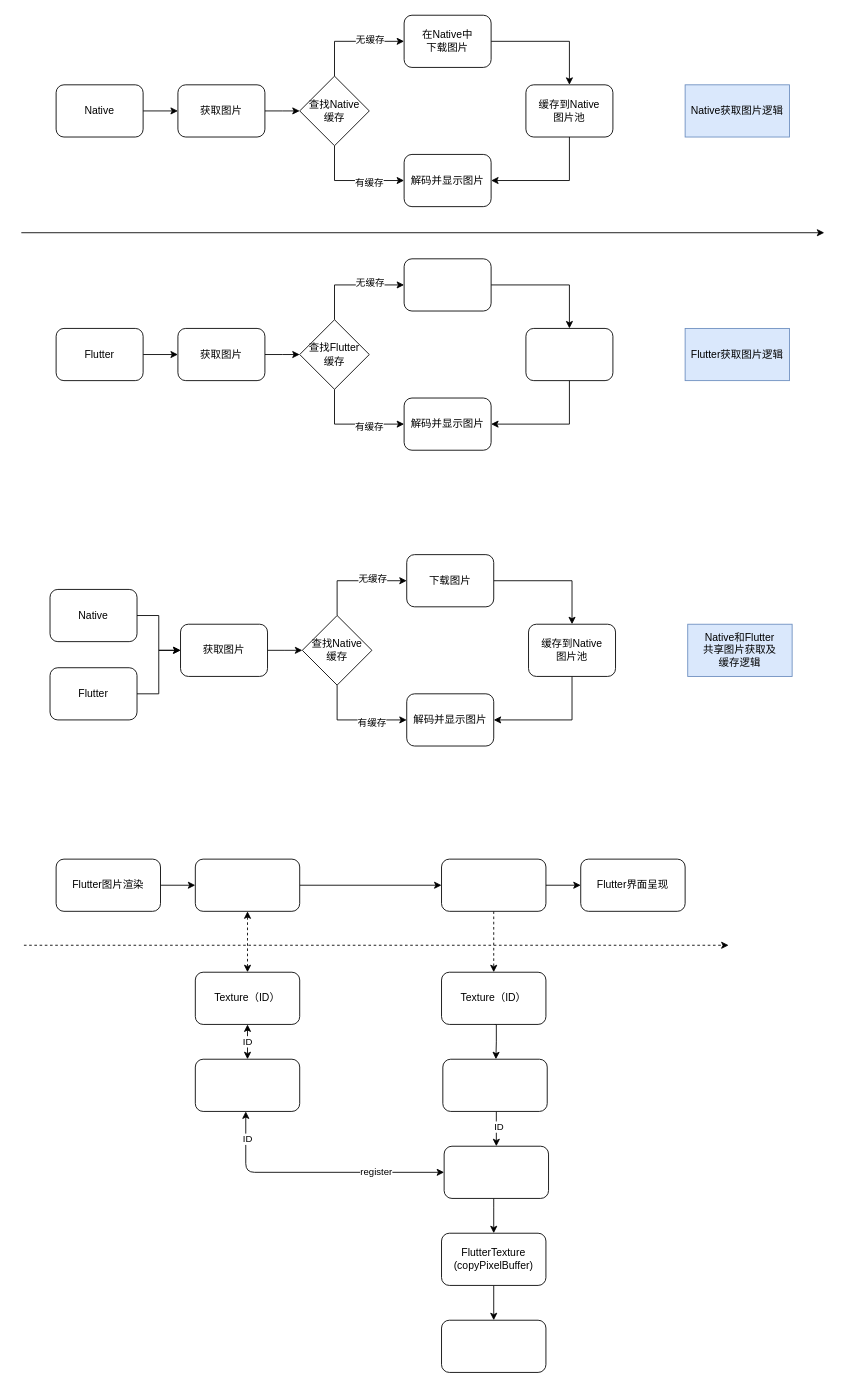
Image size: 847x1388. Some labels were removed from this diagram. The shapes that lost their labels are listed below. From the top down, each one's centre as x and y in pixels, then its label:
pixel 447 284: 在Flutter中 下载图片
pixel 569 354: 缓存到Flutter 图片池
pixel 247 884: 纹理注册
pixel 493 884: 纹理渲染
pixel 247 1084: FlutterTexture
pixel 494 1084: TextureLayer (paint)
pixel 496 1171: FlutterTextureRegistry
pixel 493 1345: Flutter GLRender
